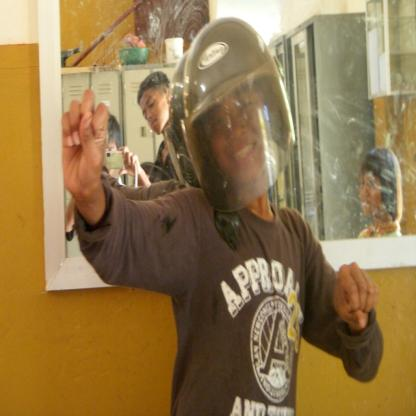Helmet: (166, 34, 295, 230)
